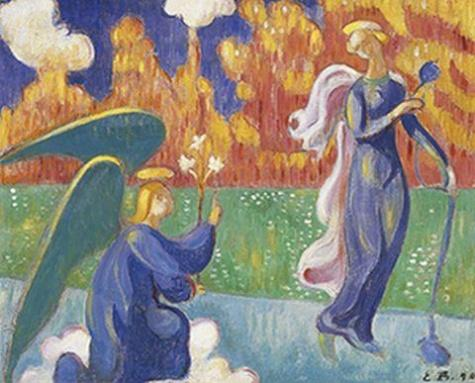person: (329, 19, 456, 369), (79, 180, 222, 376)
